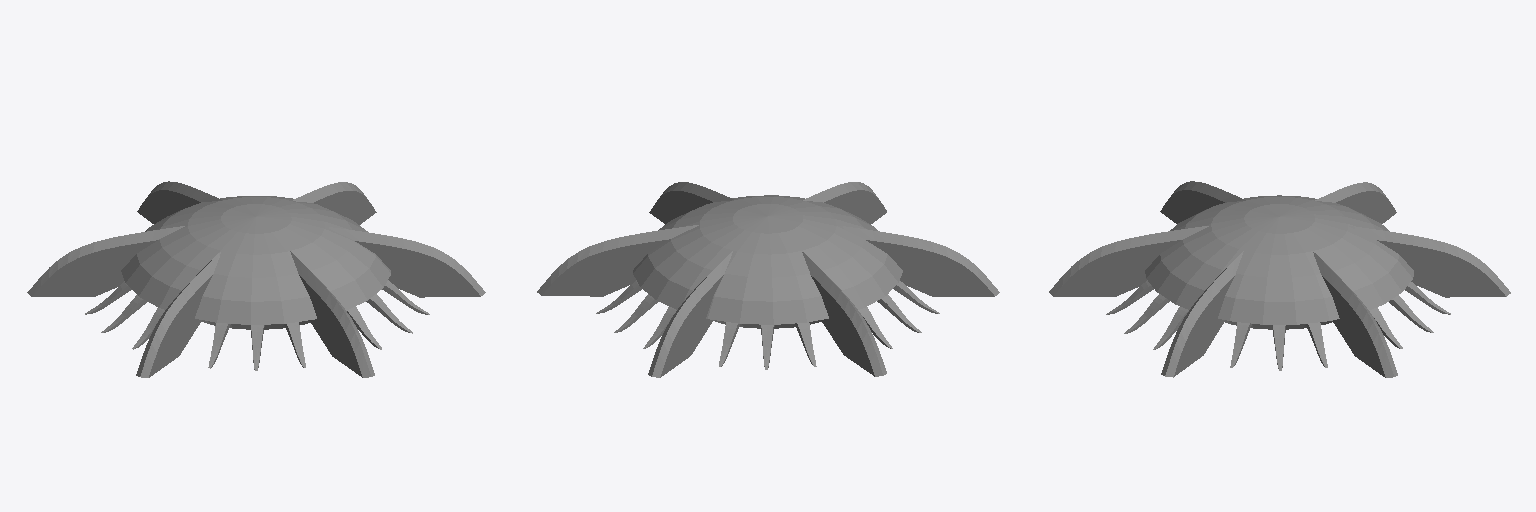
File: Lab.obj
3 views of the same model, side by side, from view 1: azimuth 30°, elevation 25°; view 2: azimuth 150°, elevation 25°; view 3: azimuth 270°, elevation 25° (orthographic).
Visible parts, largest first — view 1: Research_F; view 2: Research_F; view 3: Research_F.
Part boxes in pixels (x1,y1,x2,y2): Research_F: (27, 181, 485, 377); Research_F: (537, 182, 999, 377); Research_F: (1049, 181, 1510, 377).
Bounding box in the file's own units: 1.76 × 0.3806 × 2.02.